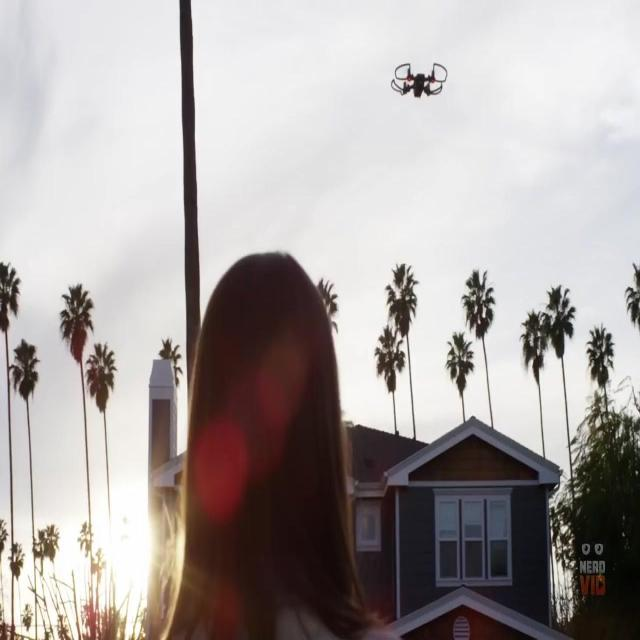drone: (388, 58, 449, 103)
